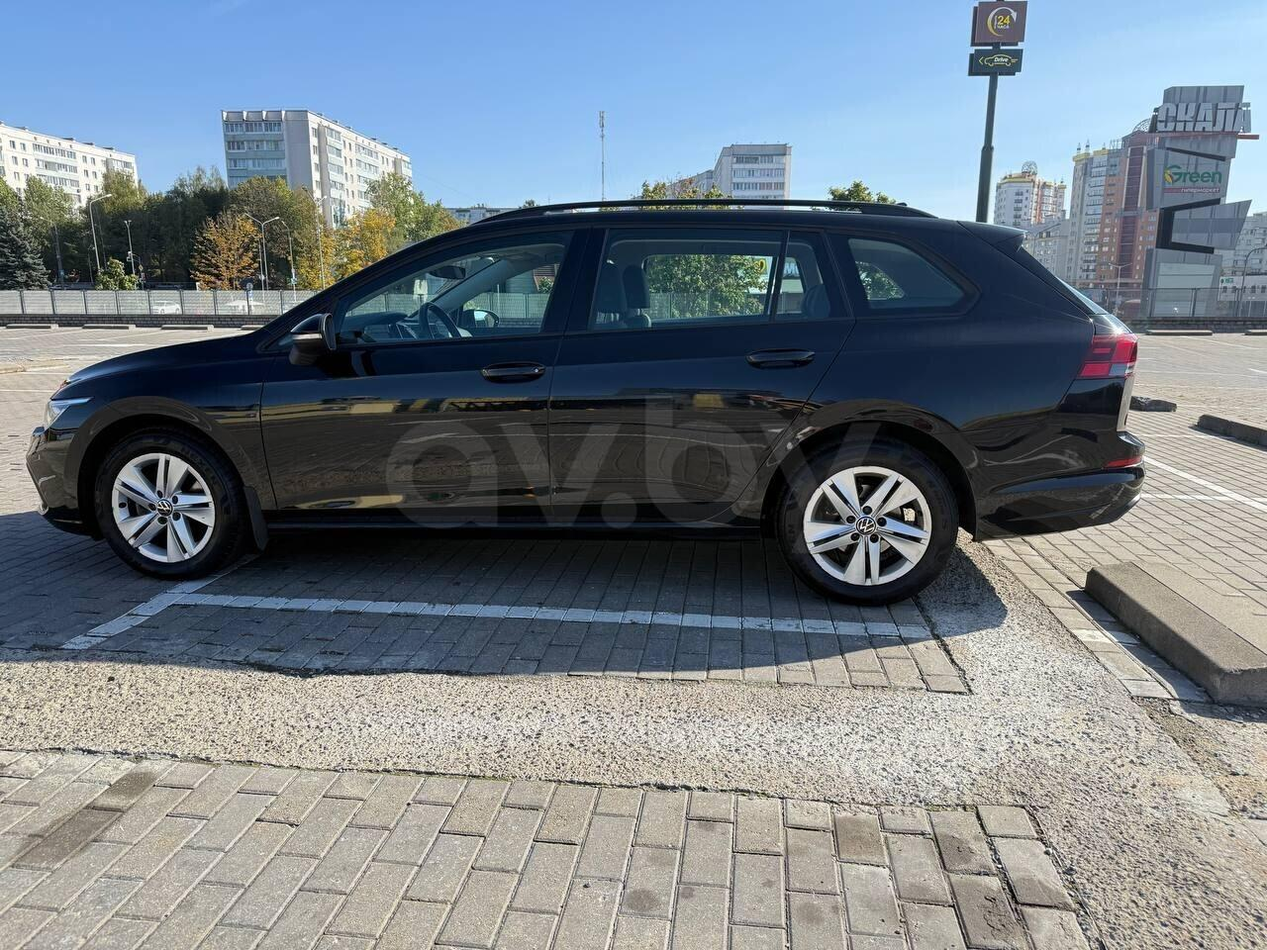Golf_2019: (30, 190, 1152, 619)
